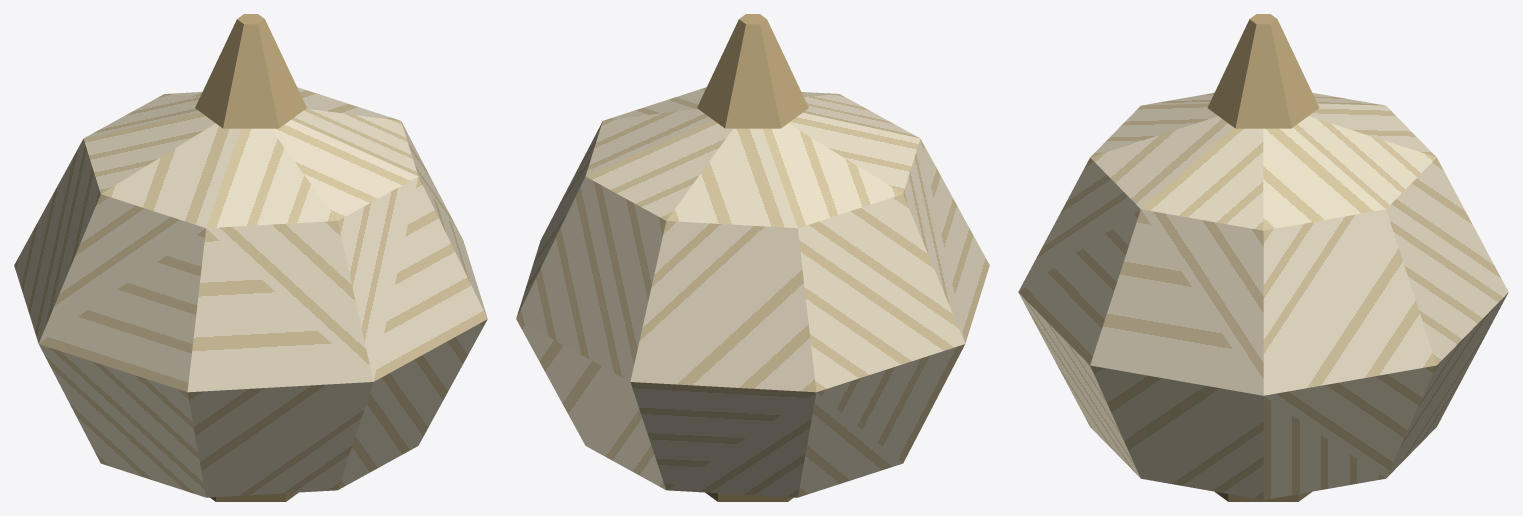
Rendered from onion.glb.
3 renders of one model, left to right at view 1: azimuth 30°, elevation 25°; view 2: azimuth 150°, elevation 25°; view 3: azimuth 270°, elevation 25°, orthographic.
Parts seen in each view (by area): view 1: block_bulb, block_tip, block_root; view 2: block_bulb, block_tip, block_root; view 3: block_bulb, block_tip.
Boxes of the visible parts, <box> form: block_bulb: <box>14,87,487,497</box>; block_tip: <box>195,14,306,128</box>; block_root: <box>210,492,298,501</box>; block_bulb: <box>516,87,989,497</box>; block_tip: <box>697,14,808,128</box>; block_root: <box>705,492,793,501</box>; block_bulb: <box>1018,92,1508,499</box>; block_tip: <box>1207,14,1319,128</box>.
Bounding box in the file's own units: 0.07 × 0.073 × 0.07.
1 material, 1 textured.
